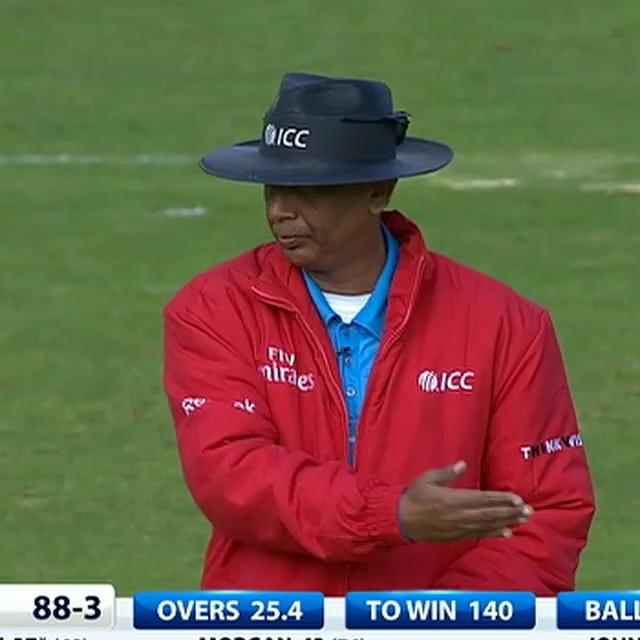umpire: (125, 38, 632, 590)
